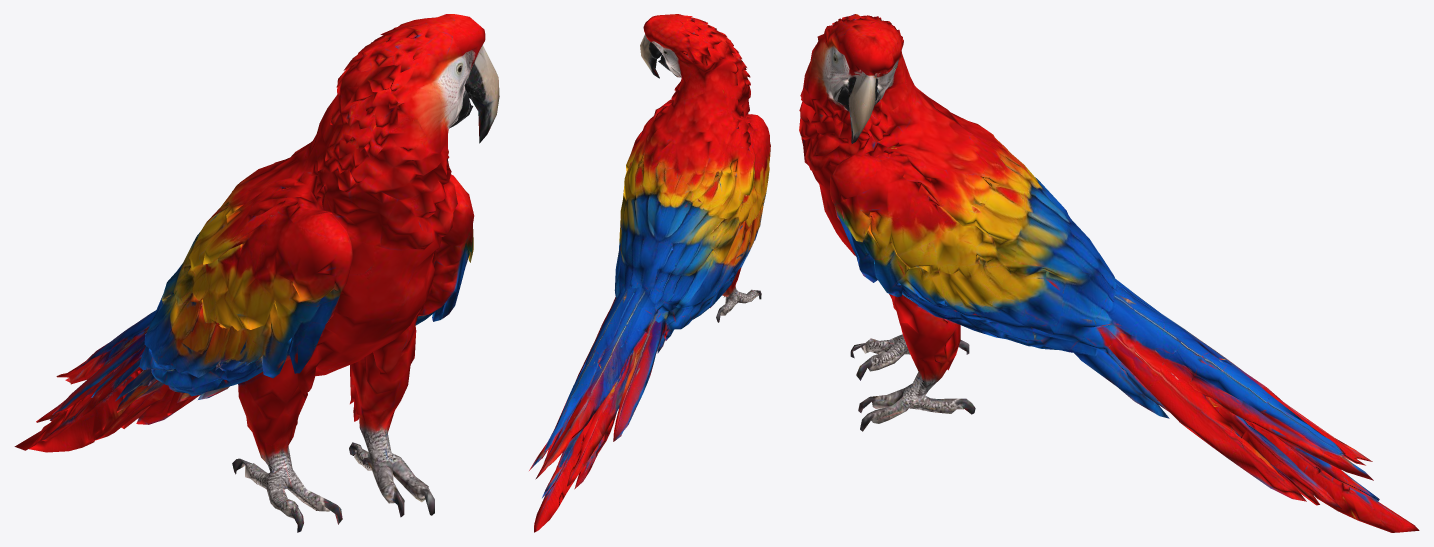
The model's file is papagan.glb.
3 renders of one model, left to right at view 1: azimuth 30°, elevation 25°; view 2: azimuth 150°, elevation 25°; view 3: azimuth 270°, elevation 25°, orthographic. The views are drawn at different scales.
Parts seen in each view (by area): view 1: parrot; view 2: parrot; view 3: parrot.
Part boxes in pixels (box(x1,y1,x2,y2)): parrot: box(14, 14, 499, 532); parrot: box(529, 14, 770, 532); parrot: box(799, 14, 1419, 532).
Size of the model in its own units: 0.3192 by 0.8113 by 0.8486.
Materials: 1 (1 with a texture image).
